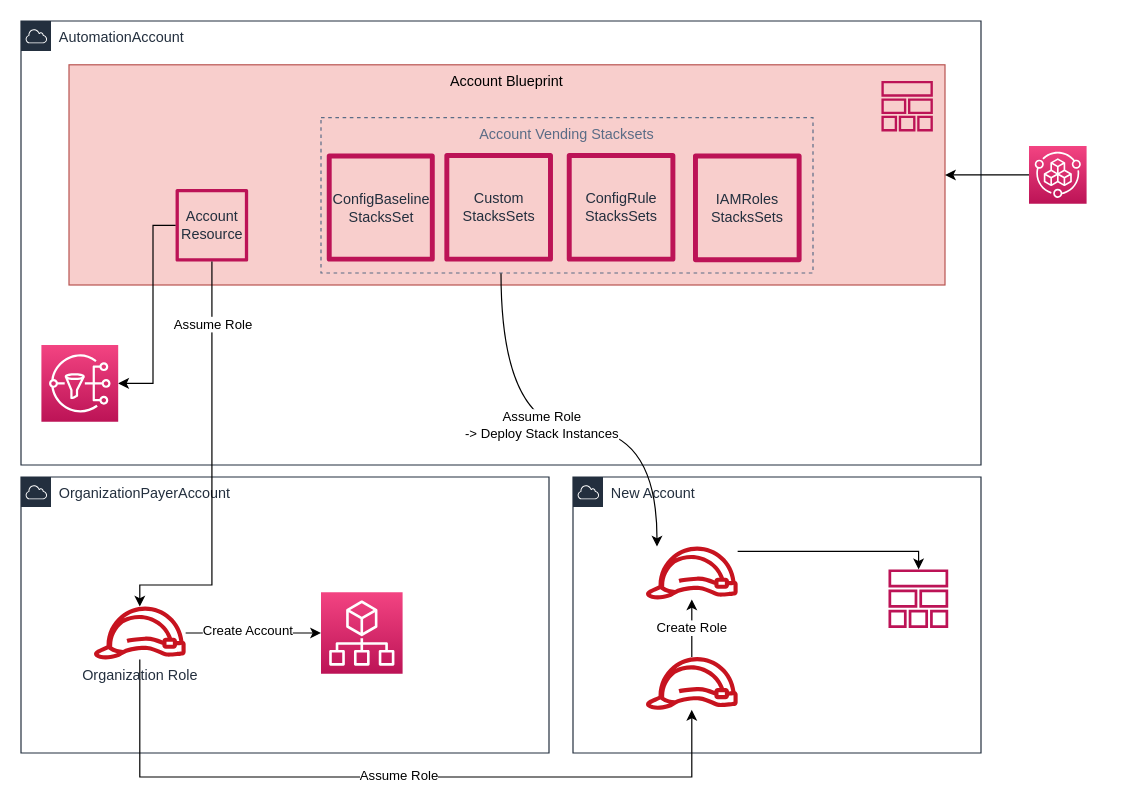
Some shapes in this 1146 by 808 pixel diagram are drawn without their labels. Each missing label, with the centre of its shape:
AutomationAccountAccessRole: point 691,572
AWS ServiceCatalog API: point 1057,174
OrganizationAccountAccessRole: point 691,682
Organizations API: point 361,632
SNS Notifications: point 79,383
Stack Instances: point 918,598
